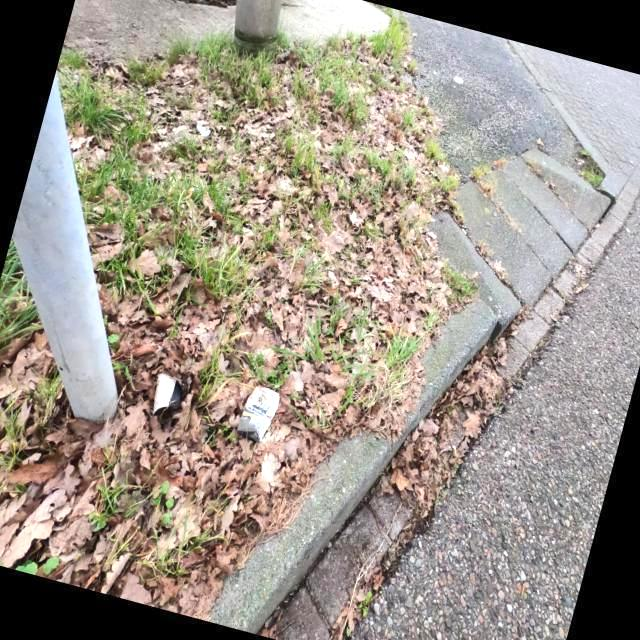Coffee Cup: (152, 372, 182, 431)
Paper: (235, 383, 281, 443)
